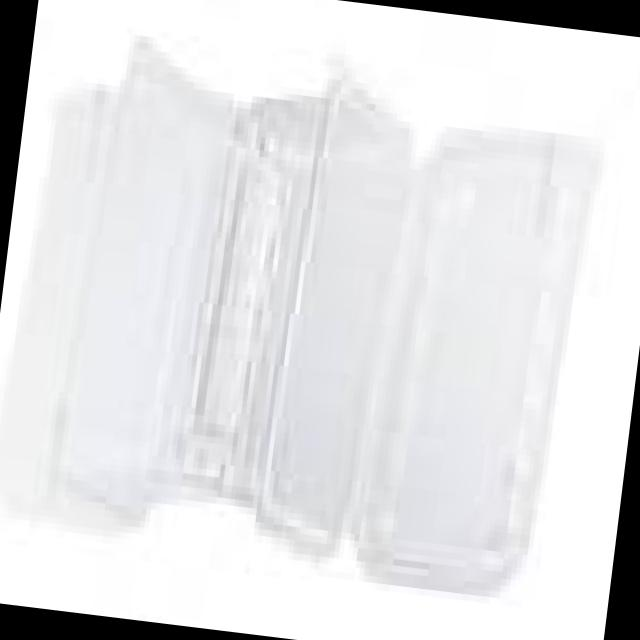Clamshell: (159, 58, 627, 618), (0, 8, 263, 575)
